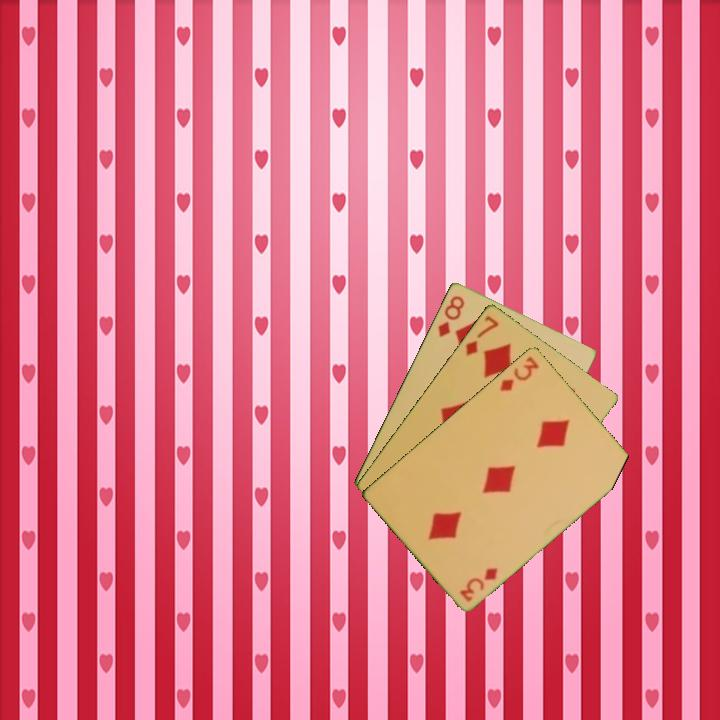3d: (496, 352, 542, 394), (456, 563, 501, 604)
7d: (462, 311, 502, 358)
8d: (434, 291, 467, 340)
